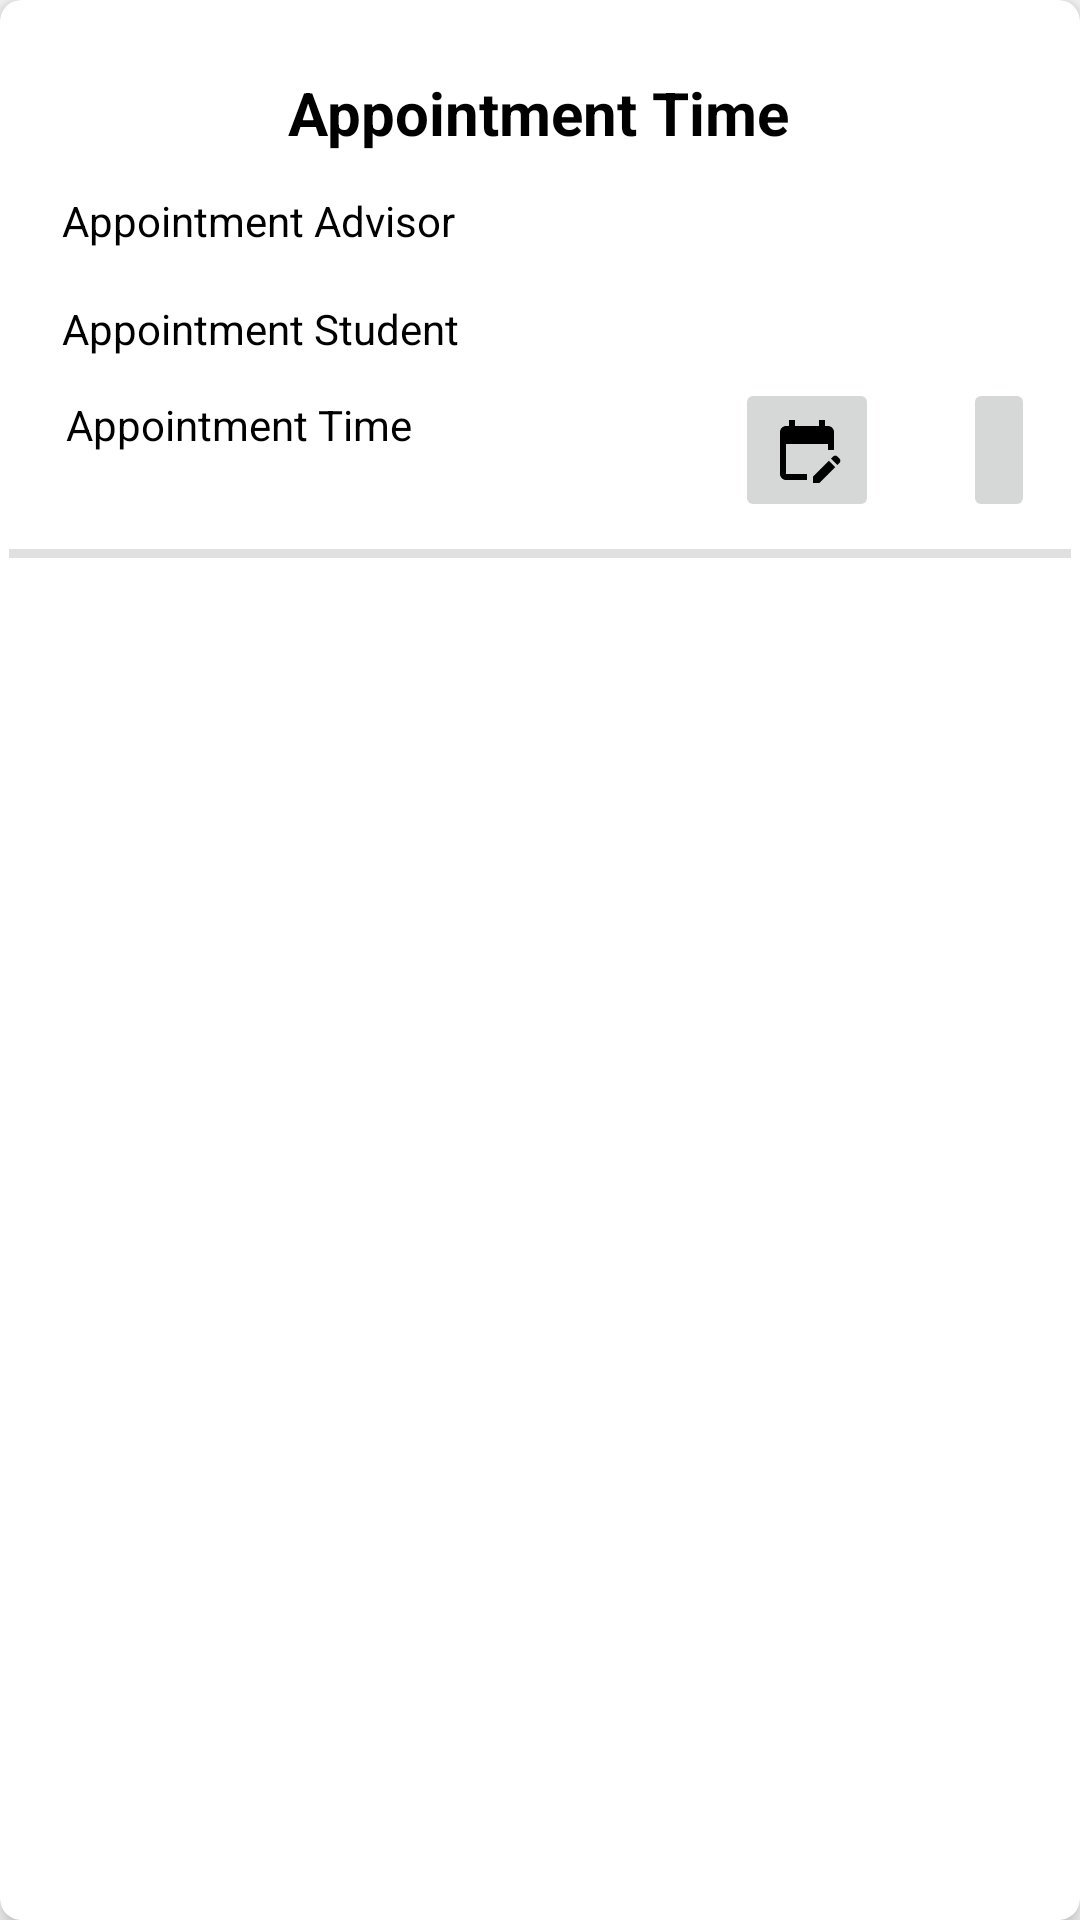

Named icons in this screenshot (1080 x 1920) and their centers, [x,y]:
Reminder Button: [807,450]
